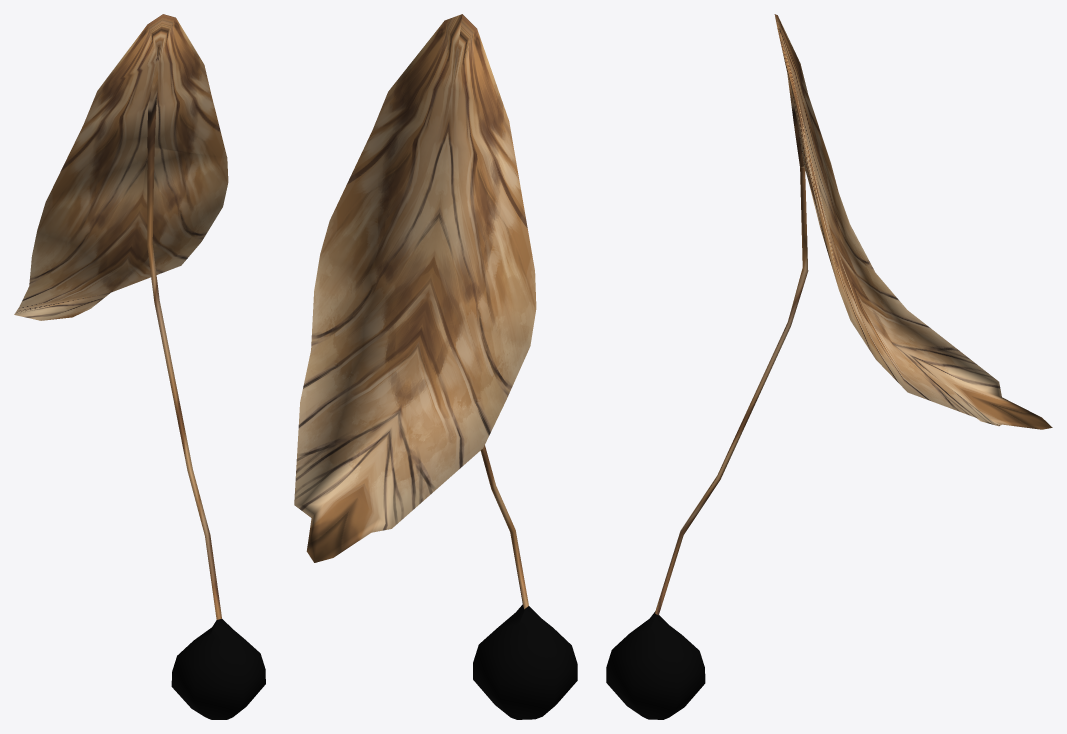
The model's file is Leuchtsame.FBX.
3 renders of one model, left to right at view 1: azimuth 30°, elevation 25°; view 2: azimuth 150°, elevation 25°; view 3: azimuth 270°, elevation 25°, orthographic. The views are drawn at different scales.
Parts seen in each view (by area): view 1: Maple; view 2: Maple; view 3: Maple.
Part boxes in pixels (x1=…): Maple: x1=14, y1=14, x2=265, y2=719; Maple: x1=294, y1=14, x2=577, y2=719; Maple: x1=606, y1=14, x2=1052, y2=719.
Bounding box in the file's own units: 153 × 292 × 505.
